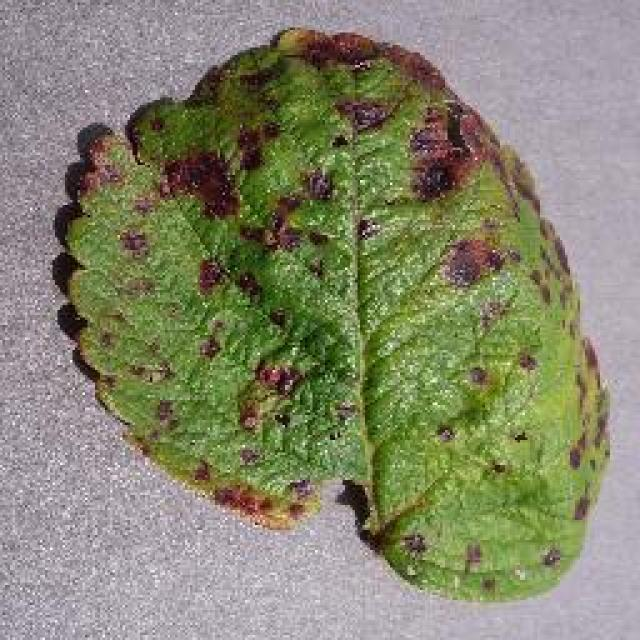Strawberry___Leaf_scorch: (82, 21, 550, 539)
